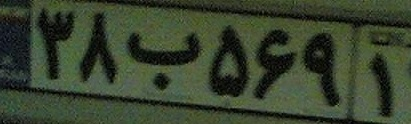character: (123, 8, 206, 100), (297, 22, 349, 116), (249, 16, 301, 109), (203, 18, 252, 110), (74, 4, 123, 91), (32, 4, 78, 89), (359, 47, 411, 121)
